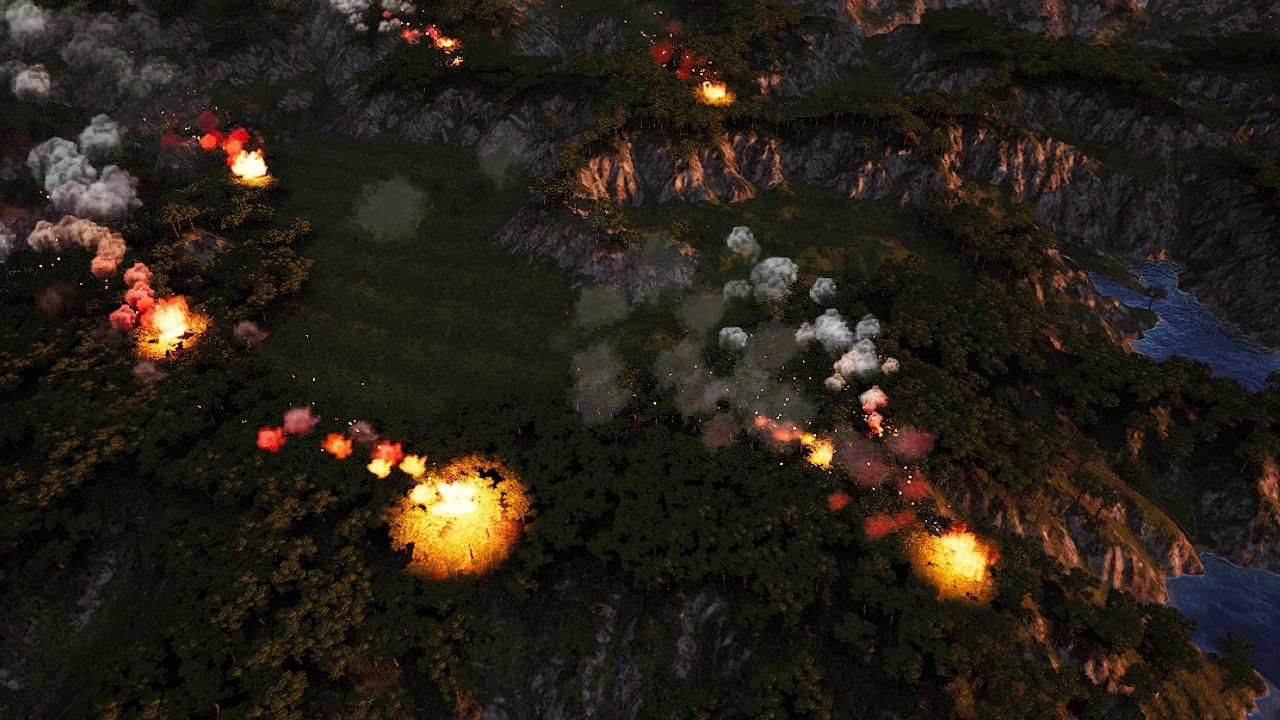fire: (254, 405, 510, 565), (211, 126, 273, 184), (925, 531, 990, 585), (142, 297, 195, 355), (408, 24, 473, 68), (787, 425, 842, 468), (862, 402, 892, 438), (699, 81, 731, 104)
smoke: (559, 224, 903, 439), (0, 0, 157, 333), (328, 0, 415, 45)
